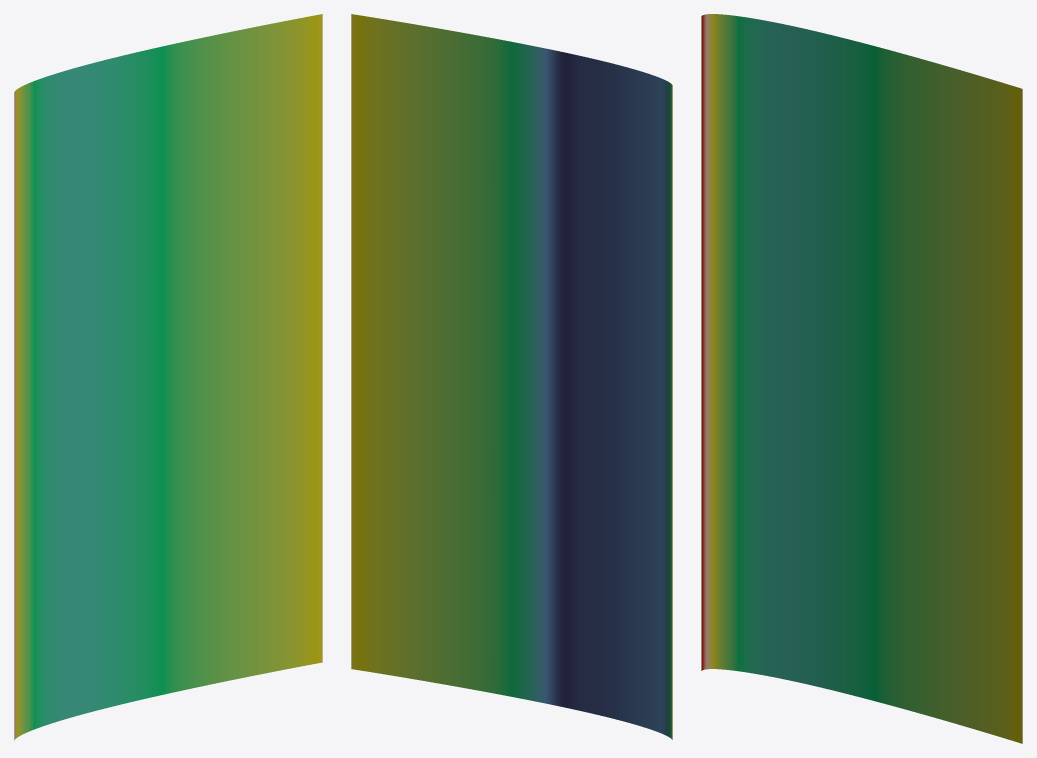
File: morphing_wing_12.glb
The picture shows the model from 3 angles, left to right: view 1: azimuth 30°, elevation 25°; view 2: azimuth 150°, elevation 25°; view 3: azimuth 330°, elevation 25°; orthographic projection.
Parts seen in each view (by area): view 1: part_0_0; view 2: part_0_0; view 3: part_0_0.
Boxes of the visible parts, bbox=[...] form: part_0_0: bbox=[14, 14, 322, 740]; part_0_0: bbox=[351, 14, 672, 739]; part_0_0: bbox=[701, 14, 1022, 743].
Bounding box in the file's own units: 1.01 × 2 × 0.1218.
